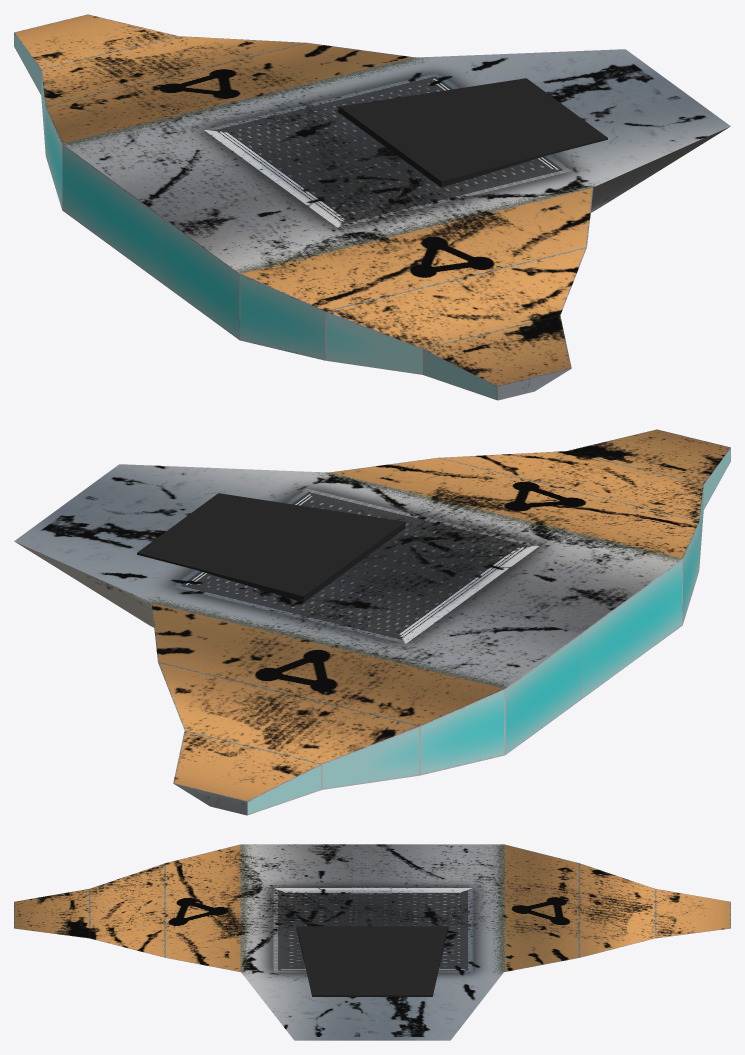
The model's file is spaceship-new.gltf.
The picture shows the model from 3 angles, top to bottom: view 1: azimuth 30°, elevation 25°; view 2: azimuth 150°, elevation 25°; view 3: azimuth 270°, elevation 25°; orthographic projection. The views are drawn at different scales.
Parts seen in each view (by area): view 1: Cube, Cube.001; view 2: Cube, Cube.001; view 3: Cube, Cube.001.
Part boxes in pixels (x1=…): Cube: x1=14, y1=14, x2=730, y2=400; Cube.001: x1=339, y1=78, x2=607, y2=187; Cube: x1=14, y1=429, x2=730, y2=815; Cube.001: x1=137, y1=493, x2=405, y2=602; Cube: x1=14, y1=844, x2=730, y2=1040; Cube.001: x1=296, y1=926, x2=448, y2=996.
Bounding box in the file's own units: 5.96 × 0.7886 × 9.48.
2 materials, 1 textured.
